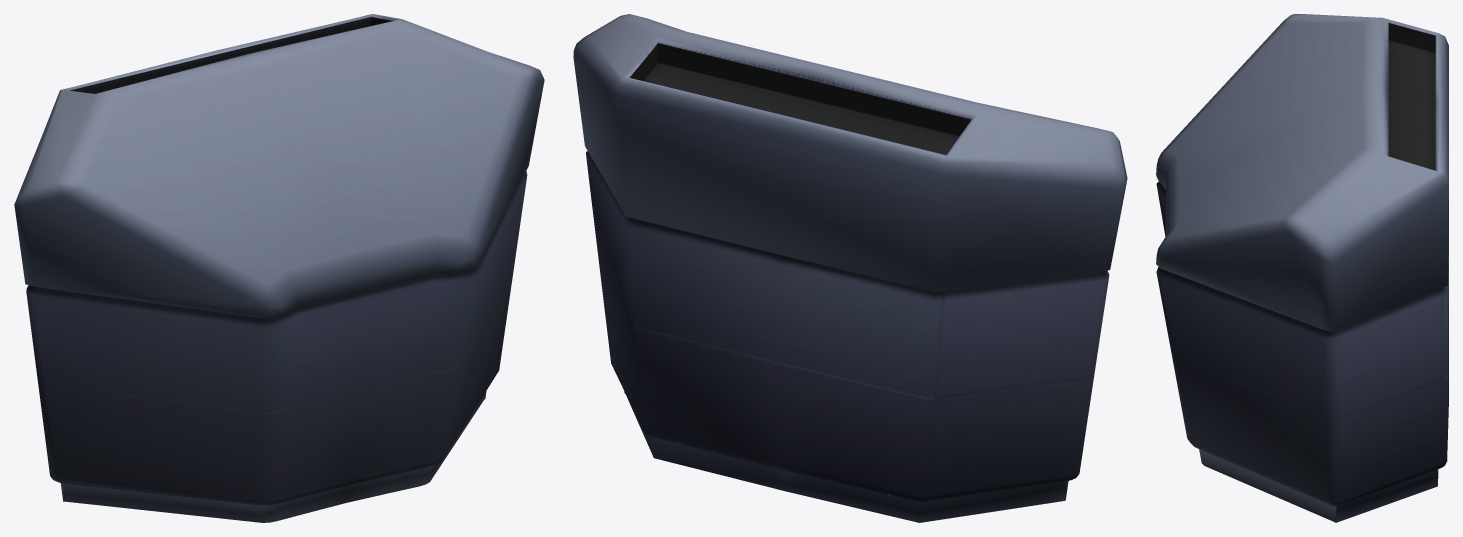
The model's file is game_console.glb.
3 renders of one model, left to right at view 1: azimuth 30°, elevation 25°; view 2: azimuth 150°, elevation 25°; view 3: azimuth 270°, elevation 25°, orthographic. The views are drawn at different scales.
Parts seen in each view (by area): view 1: Cube.036; view 2: Cube.036; view 3: Cube.036.
Part boxes in pixels (x1=…): Cube.036: x1=14, y1=14, x2=544, y2=522; Cube.036: x1=573, y1=14, x2=1127, y2=522; Cube.036: x1=1156, y1=14, x2=1448, y2=522.
Size of what is drawn, in the model's own units: 1.66 by 1.14 by 0.8718.
Materials: 1 (1 with a texture image).
